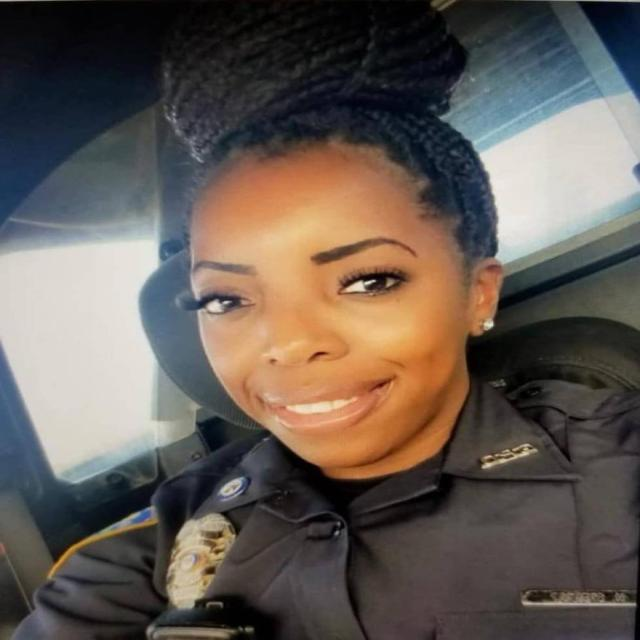police: (32, 40, 630, 640)
